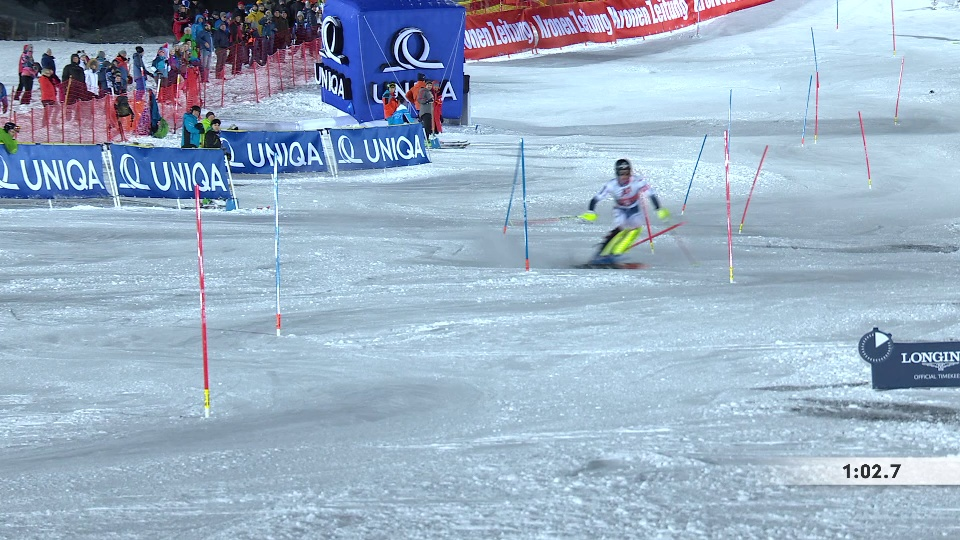kronenzeitung: (537, 9, 614, 48), (463, 18, 533, 59), (616, 1, 689, 39)
longines: (897, 348, 959, 374)
uniqa: (372, 23, 458, 90), (1, 148, 104, 198), (115, 153, 232, 197), (337, 127, 426, 171), (226, 133, 315, 177), (320, 14, 354, 102)
